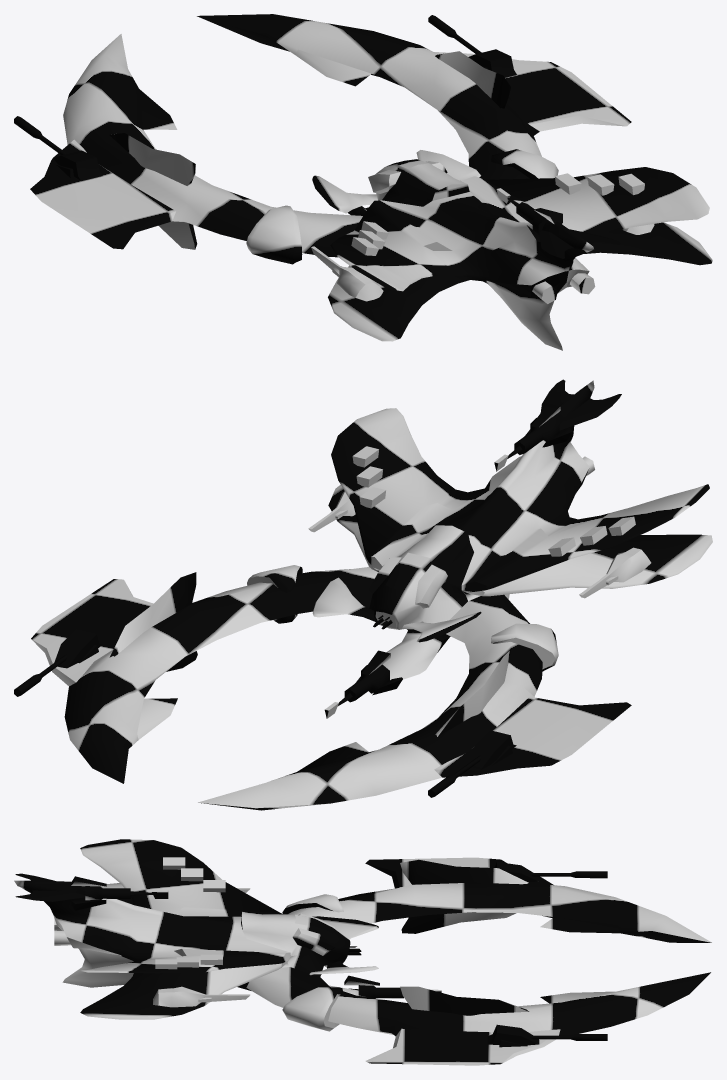
The model's file is goliath_double_winged.obj.
3 renders of one model, top to bottom at view 1: azimuth 30°, elevation 25°; view 2: azimuth 150°, elevation 25°; view 3: azimuth 270°, elevation 25°, orthographic. The views are drawn at different scales.
Parts seen in each view (by area): view 1: main; view 2: main; view 3: main.
Boxes of the visible parts, x1=… form: main: x1=14, y1=14, x2=712, y2=350; main: x1=14, y1=379, x2=712, y2=810; main: x1=14, y1=839, x2=711, y2=1065.
Bounding box in the file's own units: 141 × 39.91 × 200.
1 material, 1 textured.
